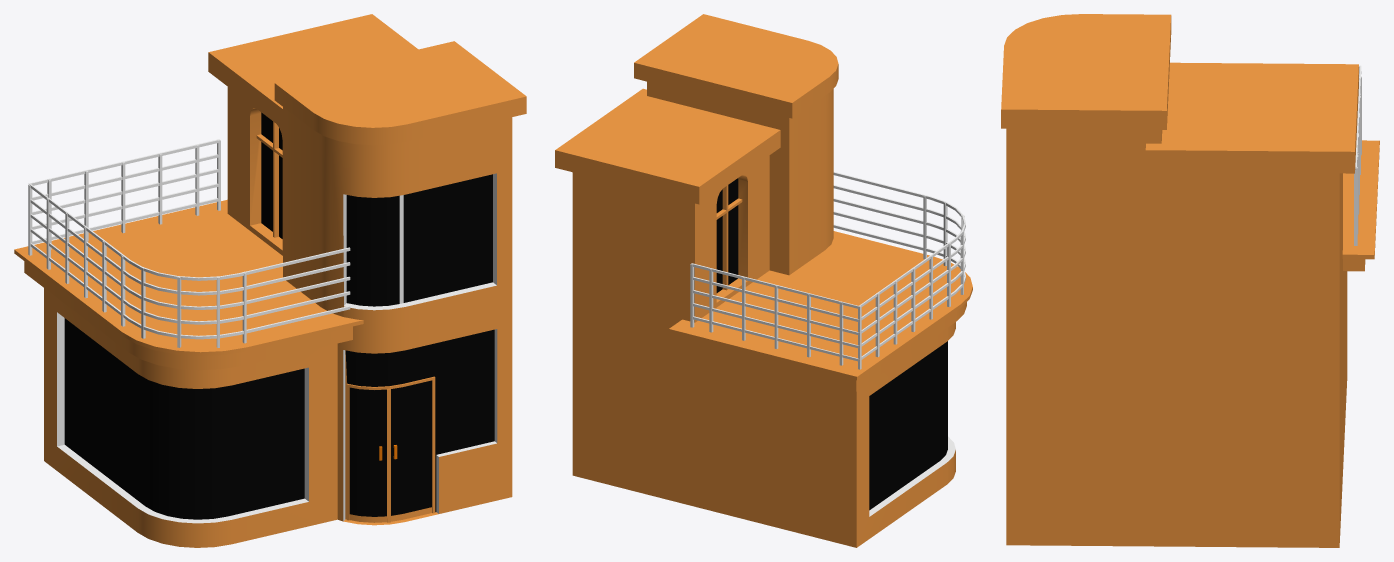
The model's file is mid5.glb.
3 views of the same model, side by side, from view 1: azimuth 30°, elevation 25°; view 2: azimuth 150°, elevation 25°; view 3: azimuth 270°, elevation 25° (orthographic). The views are drawn at different scales.
Visible parts, largest first — view 1: Commercial 3; view 2: Commercial 3; view 3: Commercial 3.
Boxes of the visible parts, left/top/right/bottom form: Commercial 3: left=14, top=14, right=526, bottom=547; Commercial 3: left=555, top=14, right=972, bottom=547; Commercial 3: left=1001, top=14, right=1379, bottom=547.
Size of the model in its own units: 9.56 by 10.41 by 8.08.
1 material, 1 textured.
